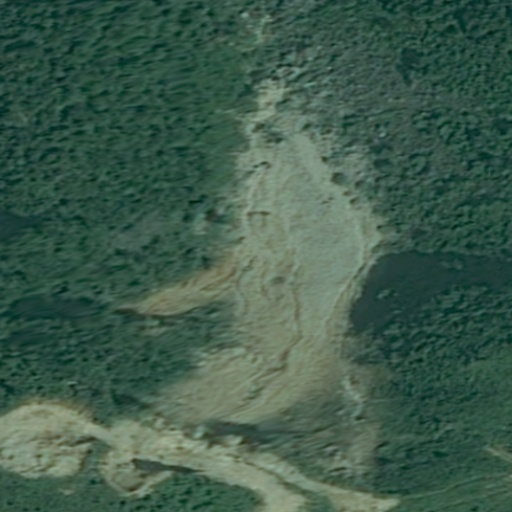landslide: (128, 84, 371, 424)
